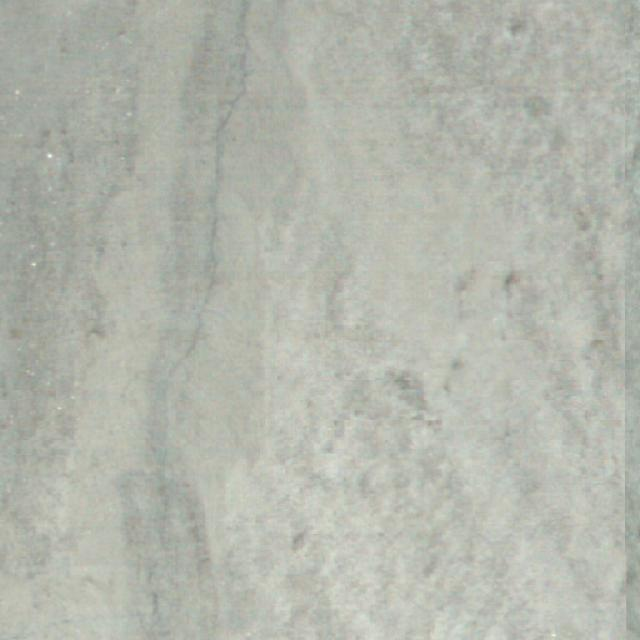Longitudinal: (140, 0, 287, 640)
